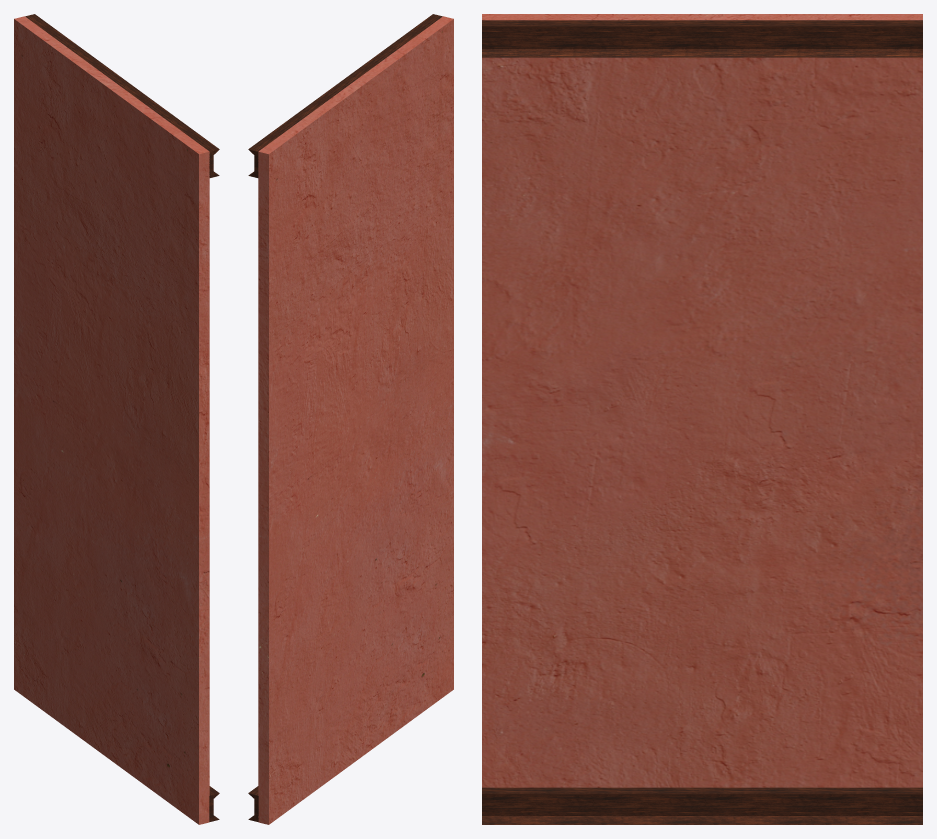
The model's file is redWall.glb.
3 views of the same model, side by side, from view 1: azimuth 30°, elevation 25°; view 2: azimuth 150°, elevation 25°; view 3: azimuth 270°, elevation 25° (orthographic). The views are drawn at different scales.
Parts seen in each view (by area): view 1: Cube.001, Cube.003; view 2: Cube.001, Cube.003; view 3: Cube.001, Cube.002, Cube.003.
Part boxes in pixels (x1,y1,x2,y2): Cube.001: (14,16,209,824); Cube.003: (25,14,219,177); Cube.001: (258,16,453,824); Cube.003: (248,14,442,177); Cube.001: (482,14,922,787); Cube.002: (482,787,922,824); Cube.003: (482,20,922,57).
Size of the model in its own units: 0.1946 by 6 by 3.
Materials: 2 (2 with a texture image).
